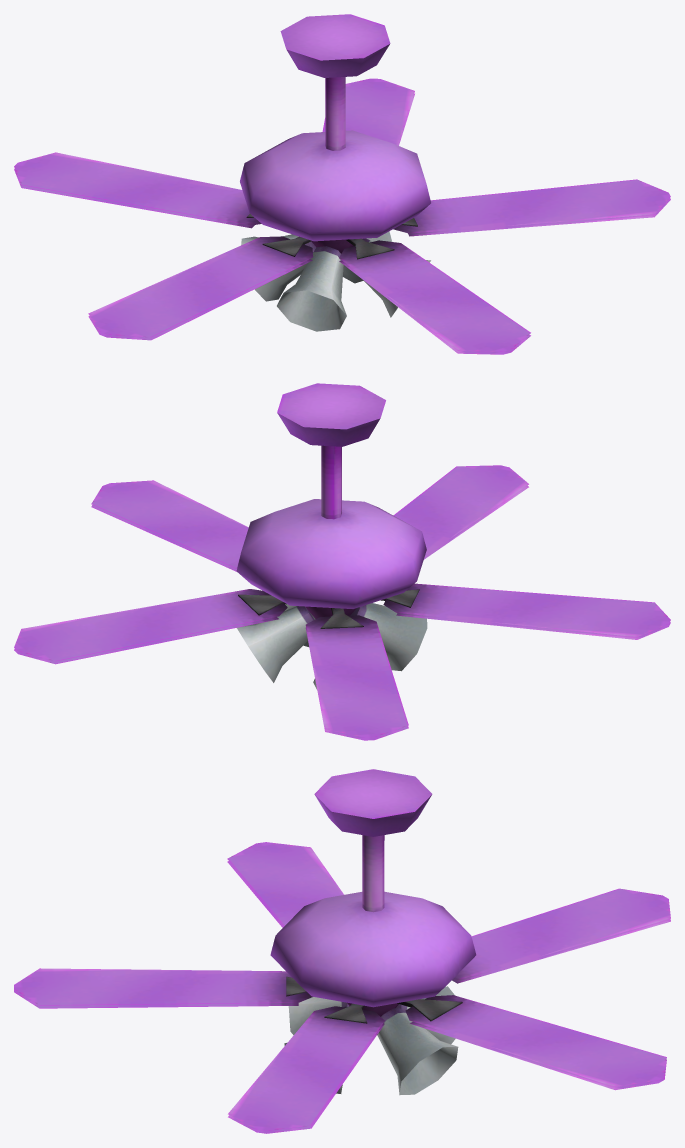
The model's file is furni_0200145_01.FBX.
3 views of the same model, one above another, from view 1: azimuth 30°, elevation 25°; view 2: azimuth 150°, elevation 25°; view 3: azimuth 270°, elevation 25° (orthographic). The views are drawn at different scales.
Parts seen in each view (by area): view 1: furni_0200145_01; view 2: furni_0200145_01; view 3: furni_0200145_01.
Part boxes in pixels (box(x1,y1,x2,y2)): furni_0200145_01: box(14, 14, 670, 354); furni_0200145_01: box(14, 383, 670, 740); furni_0200145_01: box(14, 769, 670, 1133).
Size of the model in its own units: 147 by 66.51 by 141.
Materials: 1 (1 with a texture image).
